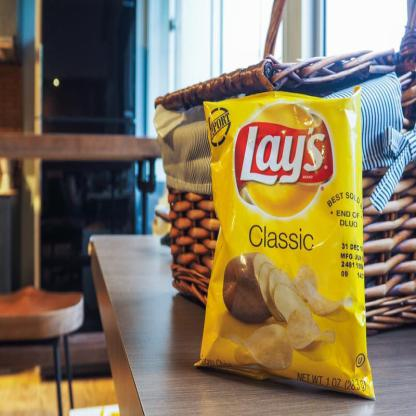potatochip: (196, 88, 376, 402)
